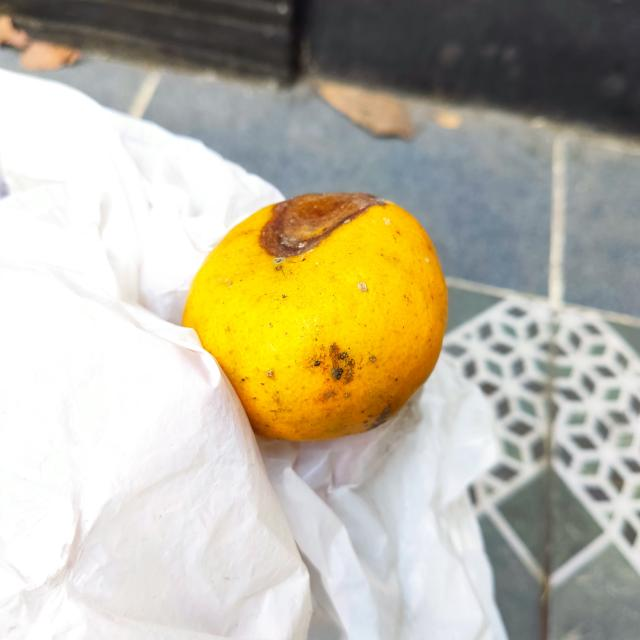orange: (182, 192, 448, 448)
